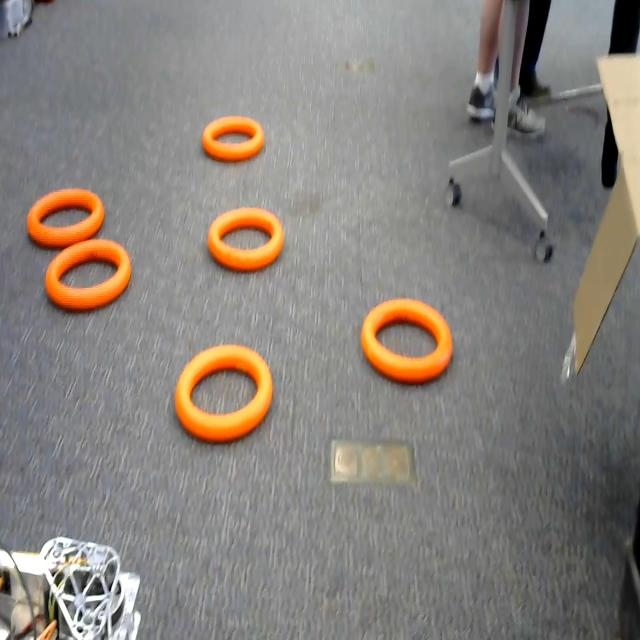note: (170, 342, 283, 455), (358, 294, 457, 386), (41, 238, 137, 314), (206, 202, 290, 282), (23, 181, 108, 250), (201, 111, 269, 171)
